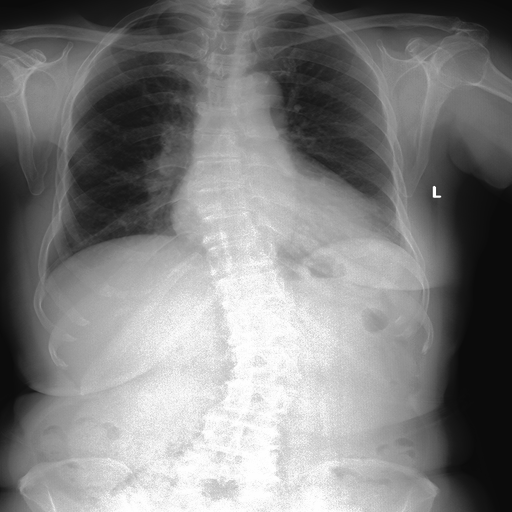Consolidation: (236, 72, 283, 107)
Nodule/Mass: (171, 167, 386, 242)
